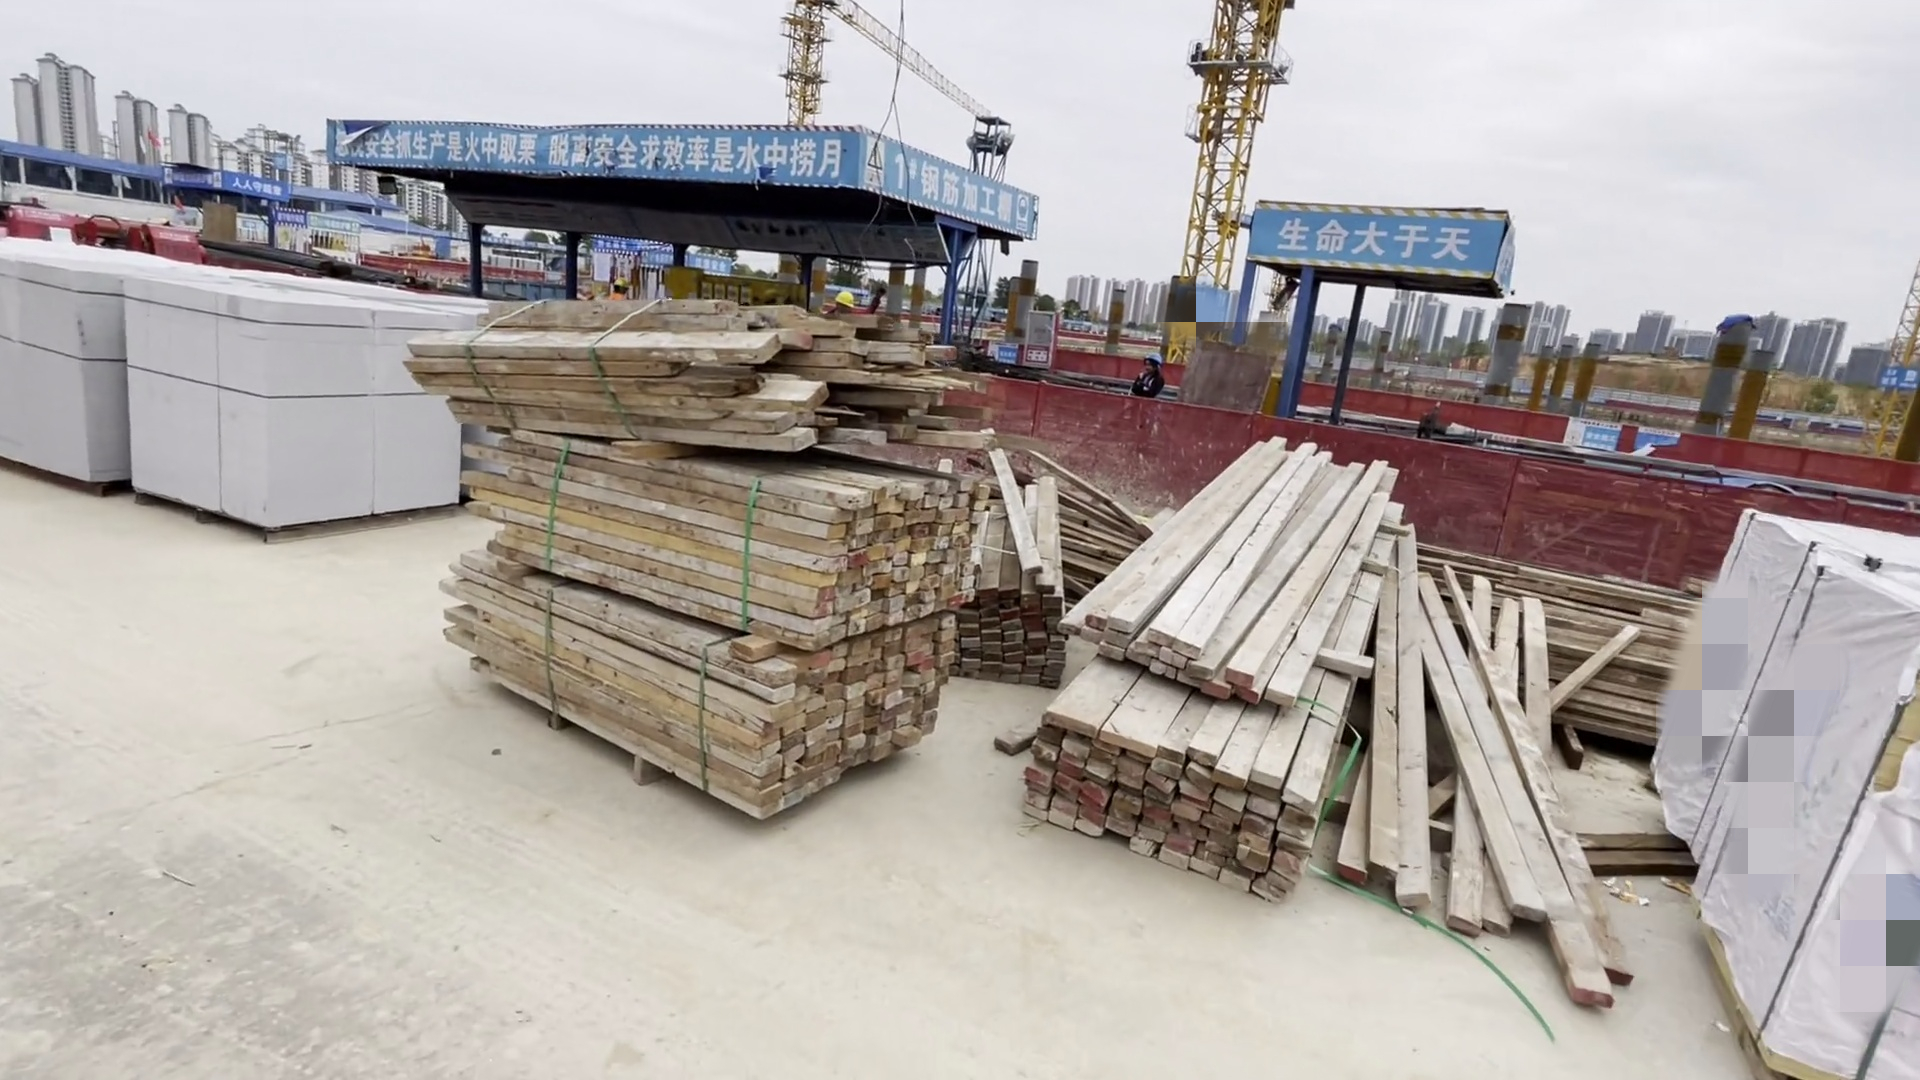brick: (8, 249, 462, 546)
slogan: (332, 109, 1044, 227), (1249, 200, 1502, 287)
wood: (1030, 422, 1643, 1009), (423, 313, 1006, 837)
